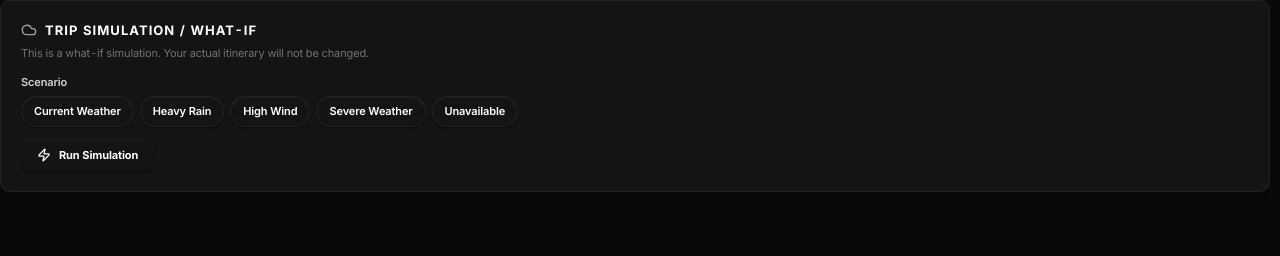
Scenario: SimulationSection › shows trip not found message for 404
The image size is (1280, 256).
Click the button "Run Simulation" at (88, 155), box [21,139,154,171]
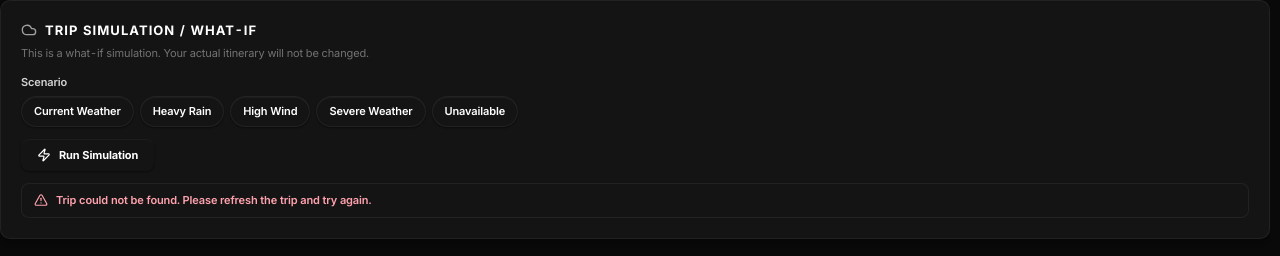
Now the text "Trip could not be found. Please refresh the trip and try again." is shown, box [56,192,371,209]
